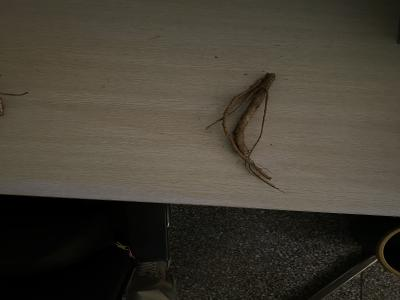Root: (216, 73, 275, 180)
